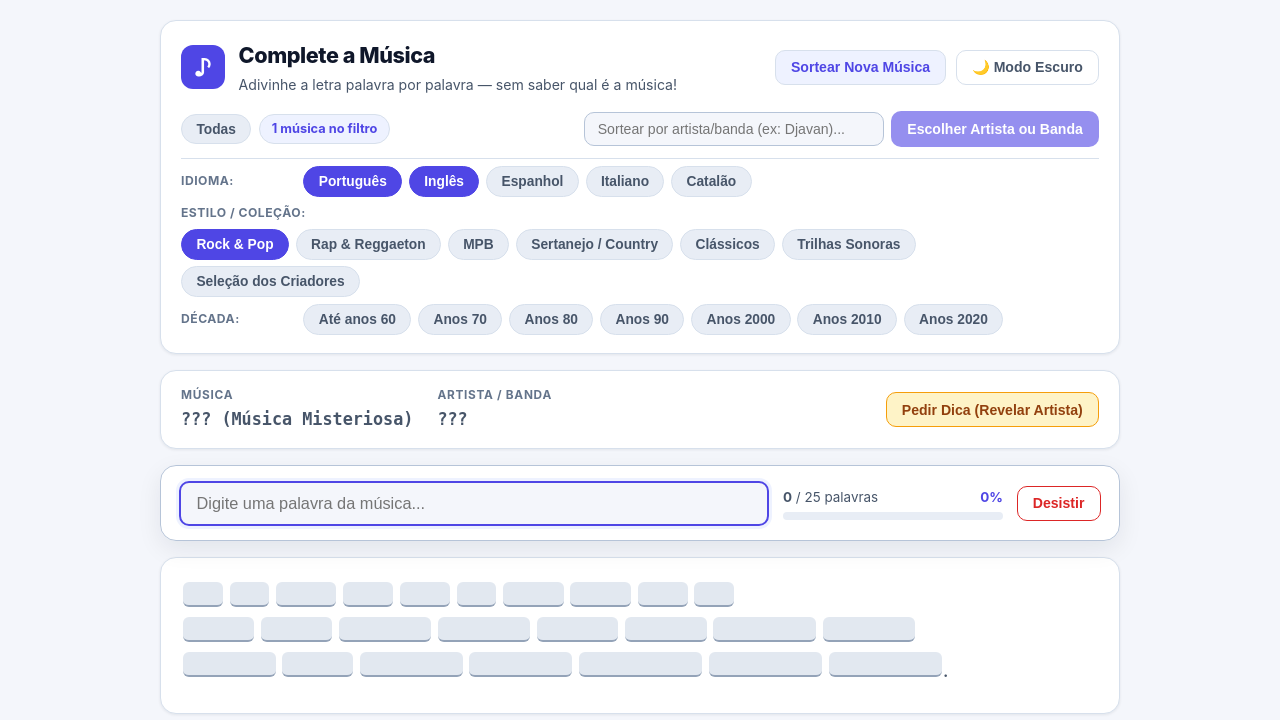
Test: Artist / Band Live Draw Mode › shows an error alert and preserves active game when artist has no playable lyrics
Check: the field labelled "Digite uma palavra da música..." is shown, box [179, 481, 769, 526]
Step 1. Type "ArtistaDesconhecidoXYZ" into the field named "Nome do artista ou banda" → (734,129), box [584, 112, 884, 146]
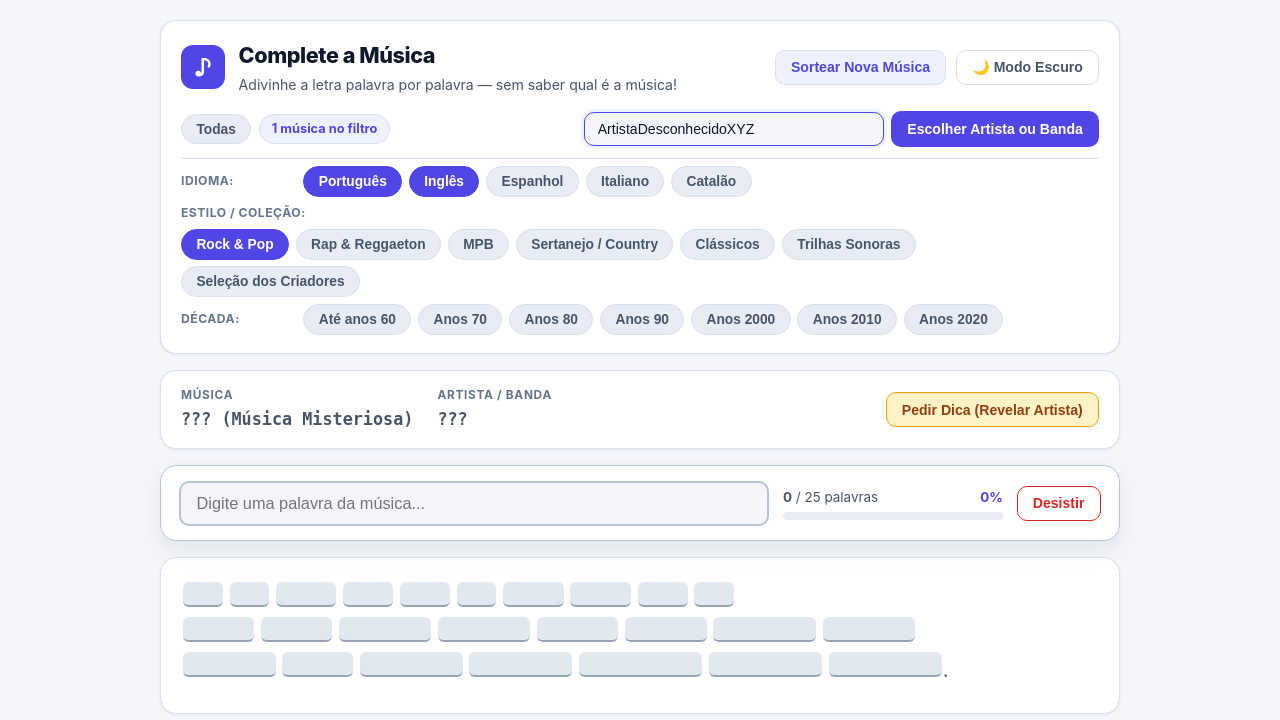
Step 2. Click the button "Escolher Artista ou Banda" → (995,129), box [891, 111, 1099, 147]
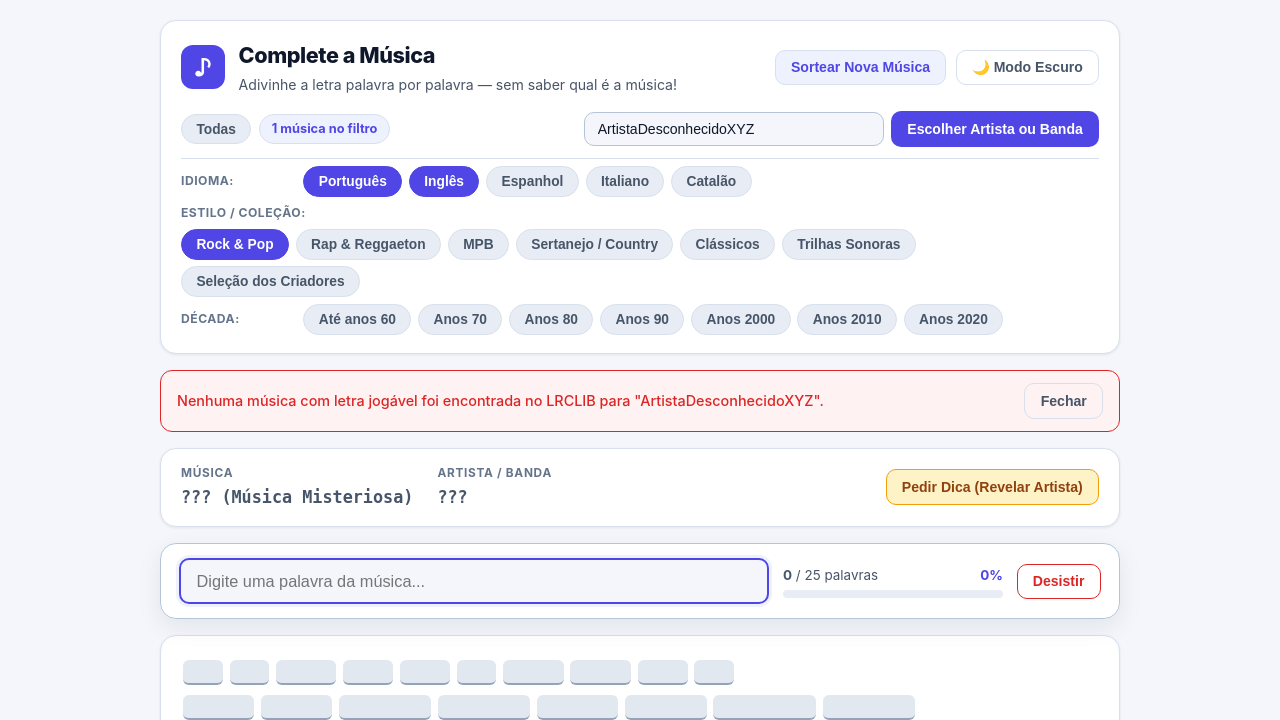
Check: the field labelled "Digite uma palavra da música..." is enabled, box [179, 558, 769, 604]
Check: the message shows "ArtistaDesconhecidoXYZ", box [177, 392, 824, 409]
